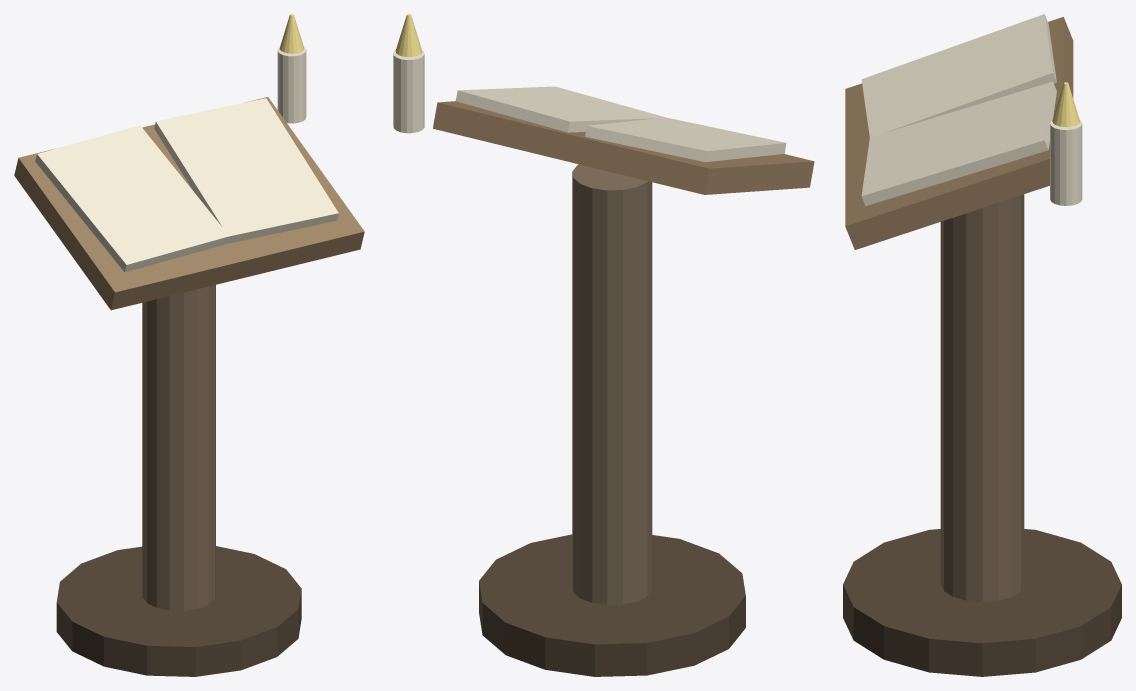
File: ledger_lectern.fbx
3 views of the same model, side by side, from view 1: azimuth 30°, elevation 25°; view 2: azimuth 150°, elevation 25°; view 3: azimuth 270°, elevation 25° (orthographic). The views are drawn at different scales.
Parts seen in each view (by area): view 1: ledger_lectern; view 2: ledger_lectern; view 3: ledger_lectern.
Boxes of the visible parts, x1,y1,x2,y2 form: ledger_lectern: [14, 14, 364, 676]; ledger_lectern: [393, 14, 814, 676]; ledger_lectern: [843, 14, 1121, 676].
Size of the model in its own units: 0.805 by 1.46 by 0.6.
